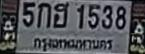1: (76, 3, 84, 28)
3: (101, 4, 112, 28)
5: (87, 3, 100, 28), (22, 1, 34, 26)
8: (115, 5, 125, 29)
A01: (36, 2, 50, 27)
A44: (52, 1, 68, 27)
BKK: (29, 34, 116, 53)
